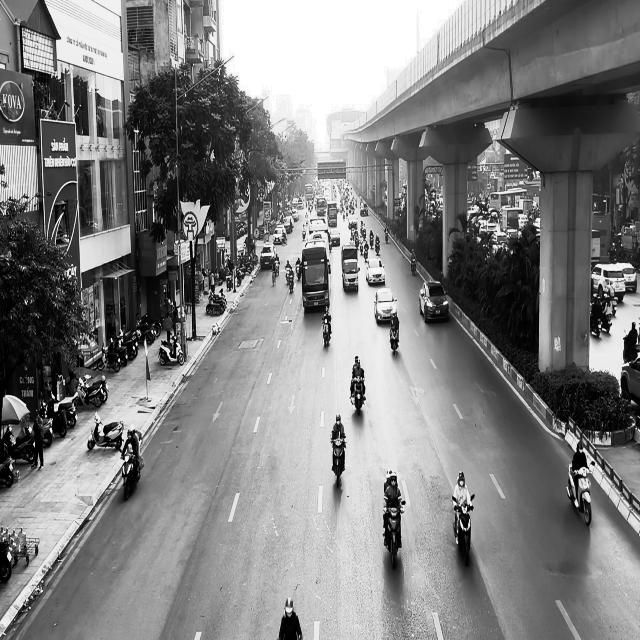car: (419, 280, 449, 322), (373, 288, 397, 324), (365, 257, 385, 285)
motorbike: (566, 460, 595, 525), (452, 494, 474, 566), (120, 435, 144, 500), (87, 412, 124, 450), (383, 502, 404, 568), (159, 333, 184, 365), (331, 437, 346, 487), (350, 374, 365, 415), (389, 321, 399, 355), (321, 316, 331, 348), (286, 270, 294, 293), (411, 258, 416, 276)
